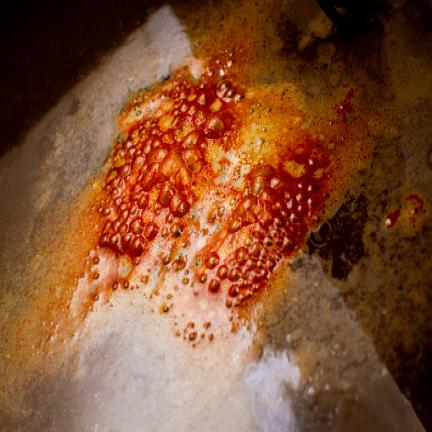besi_tidak_karat: (74, 314, 256, 431)
karat: (96, 1, 431, 373)
